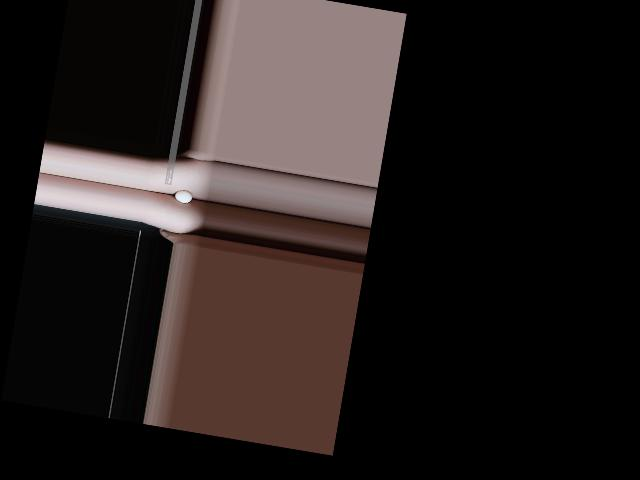egg: (173, 188, 192, 204)
